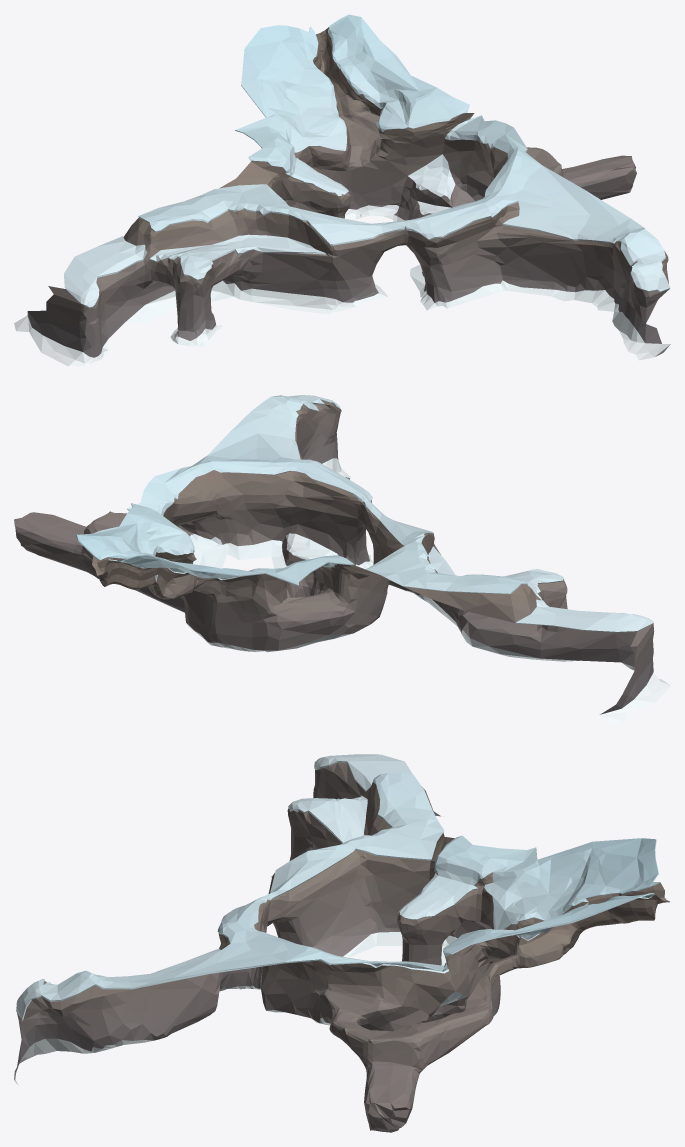
The model's file is Cliff_8.FBX.
3 views of the same model, one above another, from view 1: azimuth 30°, elevation 25°; view 2: azimuth 150°, elevation 25°; view 3: azimuth 270°, elevation 25° (orthographic). The views are drawn at different scales.
Parts seen in each view (by area): view 1: Cliff_8; view 2: Cliff_8; view 3: Cliff_8.
Part boxes in pixels (box(x1,y1,x2,y2)): Cliff_8: box(14, 14, 670, 366); Cliff_8: box(14, 395, 670, 725); Cliff_8: box(14, 754, 669, 1132).
Bounding box in the file's own units: 313 × 78.3 × 256.
